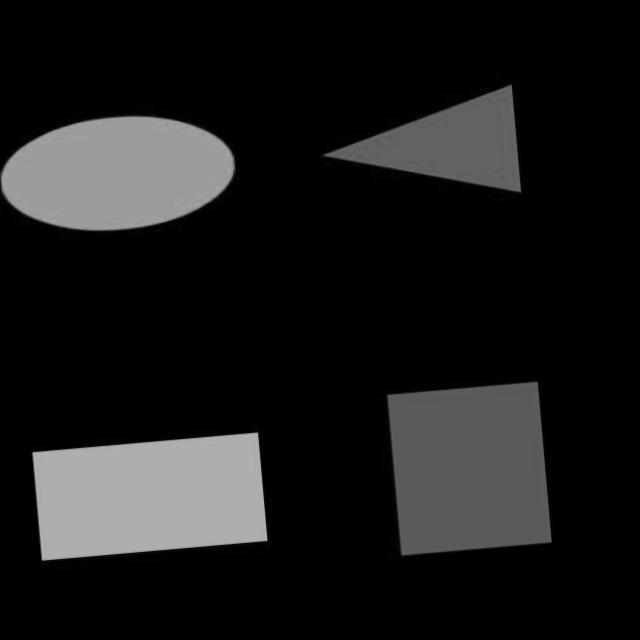square: (352, 358, 587, 590)
triangle: (310, 62, 560, 230)
